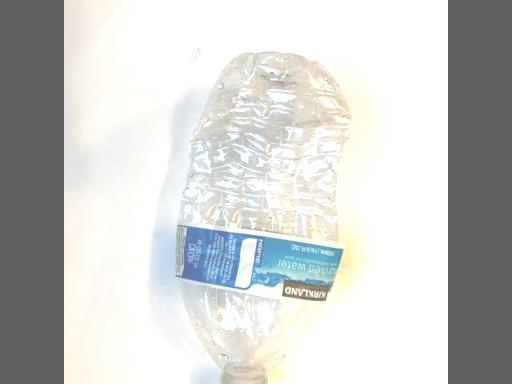bottle: (171, 35, 353, 384)
